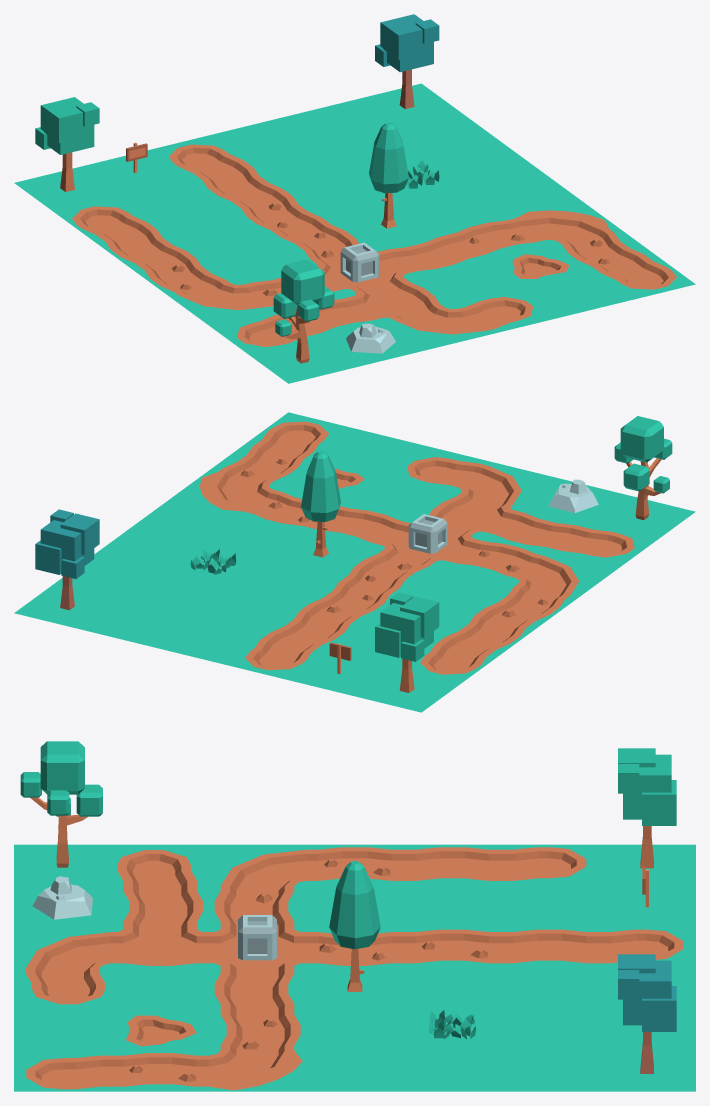
The model's file is map.glb.
3 renders of one model, top to bottom at view 1: azimuth 30°, elevation 25°; view 2: azimuth 150°, elevation 25°; view 3: azimuth 270°, elevation 25°, orthographic. The views are drawn at different scales.
Parts seen in each view (by area): view 1: mergedBlocks(Clone); view 2: mergedBlocks(Clone); view 3: mergedBlocks(Clone).
Boxes of the visible parts, box(x1,y1,x2,y2) form: mergedBlocks(Clone): box(14, 14, 695, 383); mergedBlocks(Clone): box(14, 412, 695, 712); mergedBlocks(Clone): box(14, 741, 695, 1091).
Bounding box in the file's own units: 6 × 1.53 × 7.
